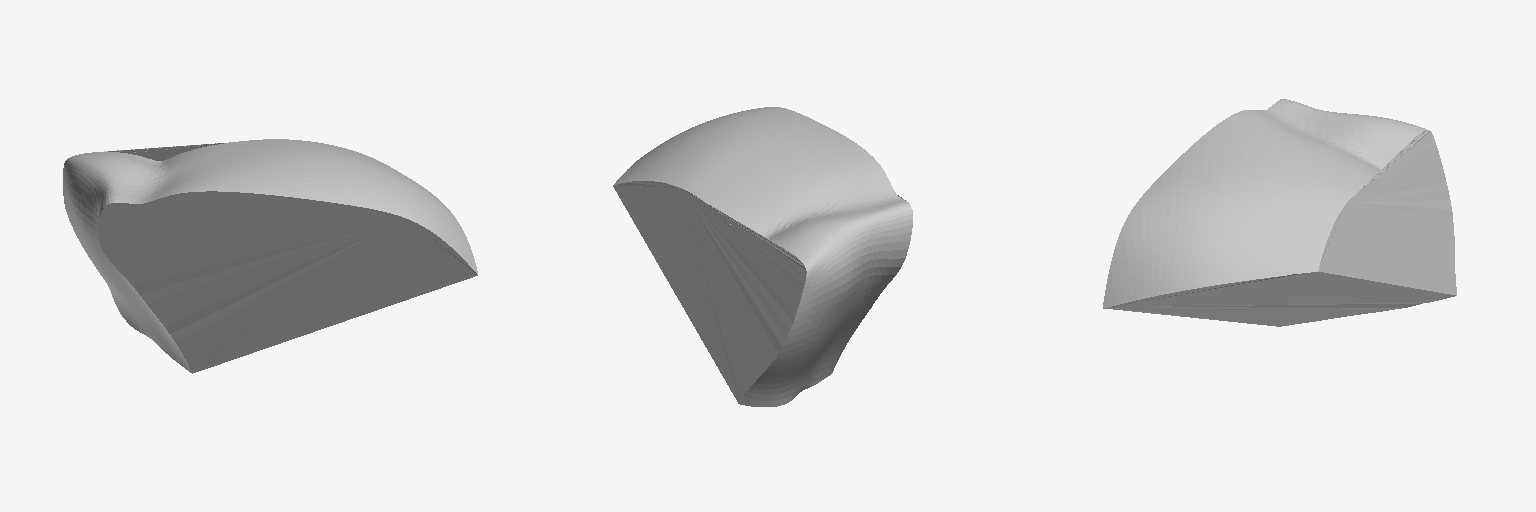
The model's file is liver5.obj.
3 views of the same model, side by side, from view 1: azimuth 30°, elevation 25°; view 2: azimuth 150°, elevation 25°; view 3: azimuth 270°, elevation 25° (orthographic).
Parts seen in each view (by area): view 1: liver.005; view 2: liver.005; view 3: liver.005.
Boxes of the visible parts, box(x1,y1,x2,y2) form: liver.005: box(63, 139, 477, 373); liver.005: box(613, 107, 912, 406); liver.005: box(1103, 99, 1456, 326).
Bounding box in the file's own units: 0.0666 × 0.0432 × 0.0679.